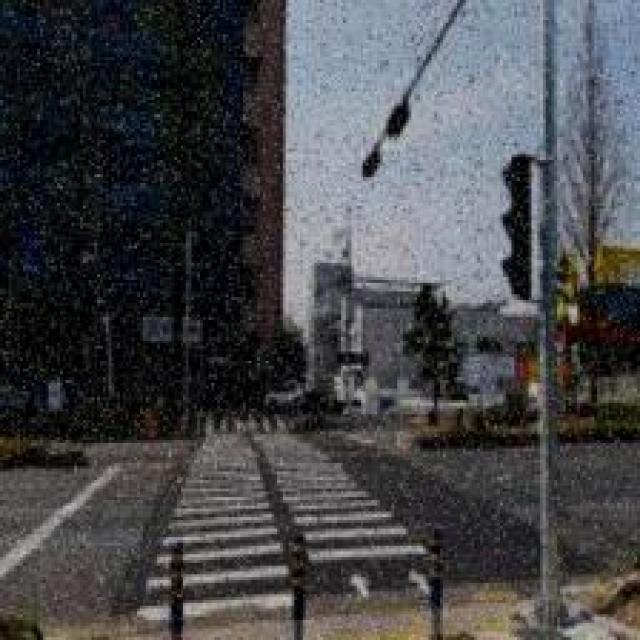walk-crossing: (137, 434, 426, 620), (190, 406, 304, 443)
